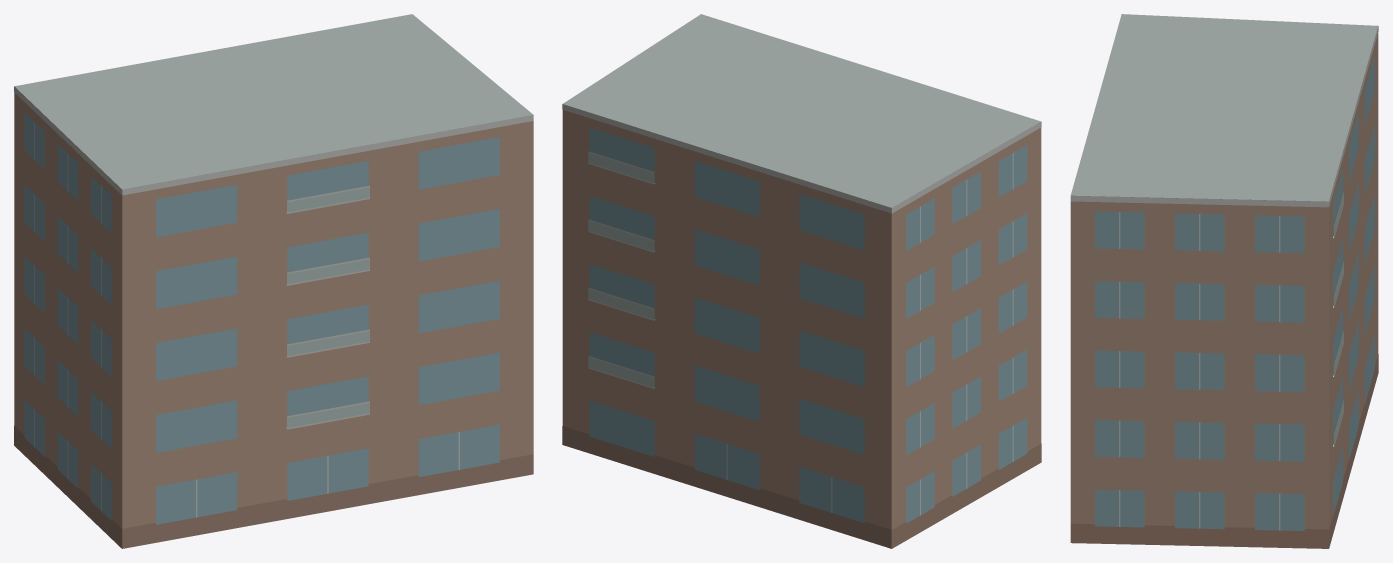
Rendered from survey-upis-32746332.glb.
The picture shows the model from 3 angles, left to right: view 1: azimuth 30°, elevation 25°; view 2: azimuth 150°, elevation 25°; view 3: azimuth 270°, elevation 25°; orthographic projection. The views are drawn at different scales.
Parts seen in each view (by area): view 1: survey-upis-32746332.tmp; view 2: survey-upis-32746332.tmp; view 3: survey-upis-32746332.tmp.
Boxes of the visible parts, x1,y1,x2,y2 form: survey-upis-32746332.tmp: (14, 14, 533, 548); survey-upis-32746332.tmp: (562, 14, 1041, 548); survey-upis-32746332.tmp: (1070, 14, 1378, 548).
Bounding box in the file's own units: 16.91 × 14.6 × 11.74.
